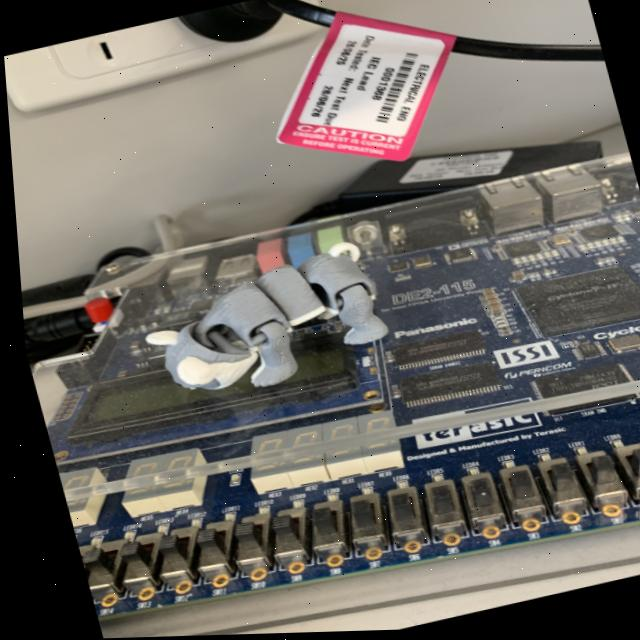koala: (125, 227, 425, 419)
